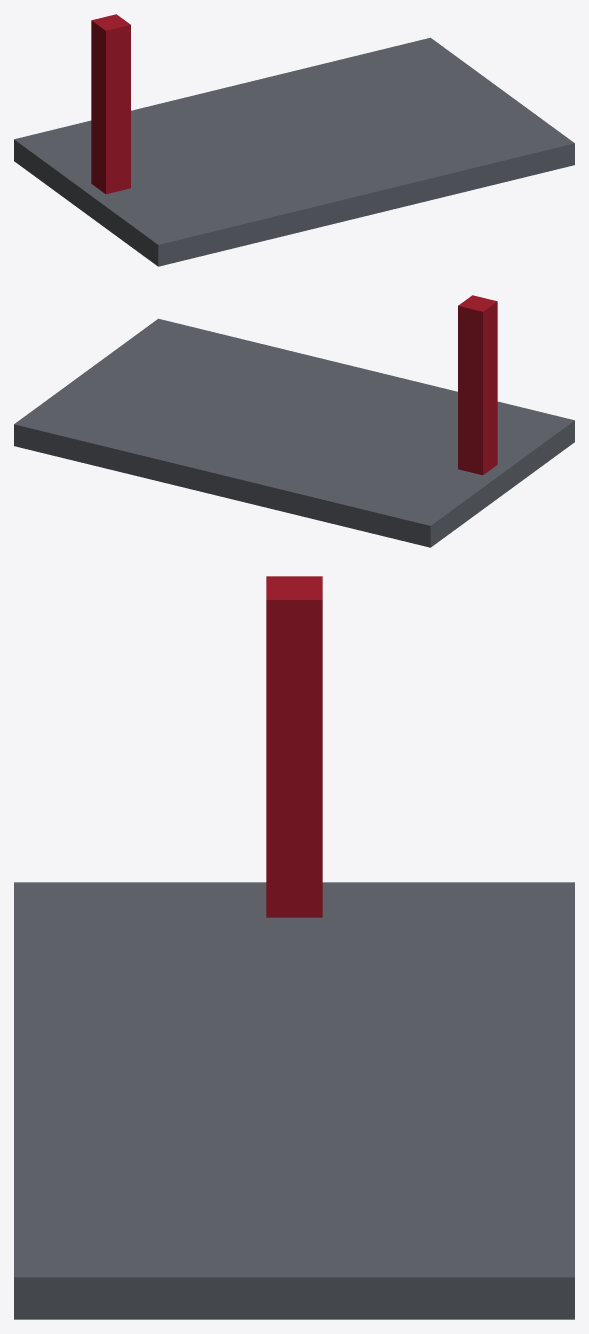
Rendered from vehicle_lift.glb.
The picture shows the model from 3 angles, top to bottom: view 1: azimuth 30°, elevation 25°; view 2: azimuth 150°, elevation 25°; view 3: azimuth 270°, elevation 25°; orthographic projection. The views are drawn at different scales.
Visible parts, largest first — view 1: part_0, part_1; view 2: part_0, part_1; view 3: part_0, part_1.
Boxes of the visible parts, bbox=[...] form: part_0: bbox=[14, 37, 574, 266]; part_1: bbox=[91, 14, 130, 194]; part_0: bbox=[14, 318, 574, 547]; part_1: bbox=[458, 295, 497, 475]; part_0: bbox=[14, 882, 574, 1319]; part_1: bbox=[266, 576, 322, 917].
Bounding box in the file's own units: 5 × 2.12 × 3.
